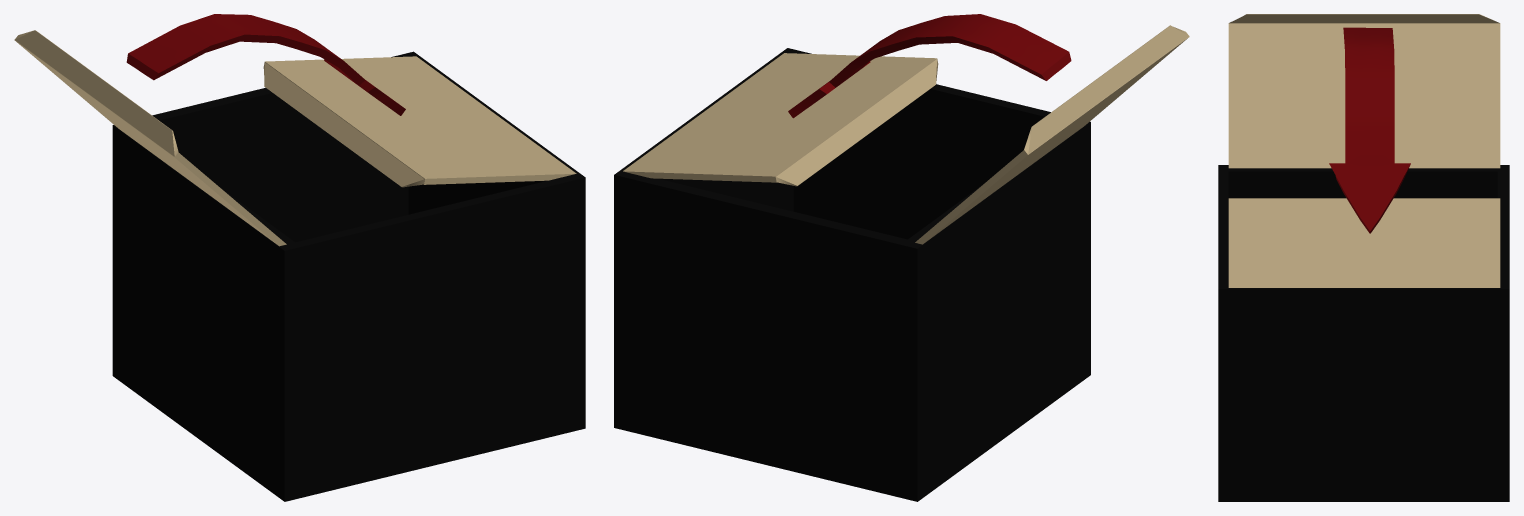
File: IconCloseBox.fbx
3 views of the same model, side by side, from view 1: azimuth 30°, elevation 25°; view 2: azimuth 150°, elevation 25°; view 3: azimuth 270°, elevation 25° (orthographic). The views are drawn at different scales.
Visible parts, largest first — view 1: Box, pCube2; view 2: Box, pCube2; view 3: Box, pCube2.
Part boxes in pixels (x1,y1,x2,y2): Box: [14, 30, 585, 501]; pCube2: [126, 14, 405, 115]; Box: [614, 25, 1189, 501]; pCube2: [788, 14, 1071, 118]; Box: [1218, 14, 1509, 501]; pCube2: [1329, 27, 1410, 233].
Size of the model in its own units: 0.1349 by 0.1287 by 0.0992.
